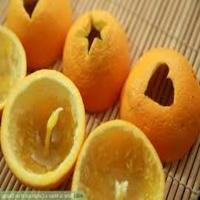biodegradable: (0, 67, 87, 189), (119, 46, 200, 161), (70, 118, 167, 200), (62, 9, 130, 113), (5, 0, 72, 72)
